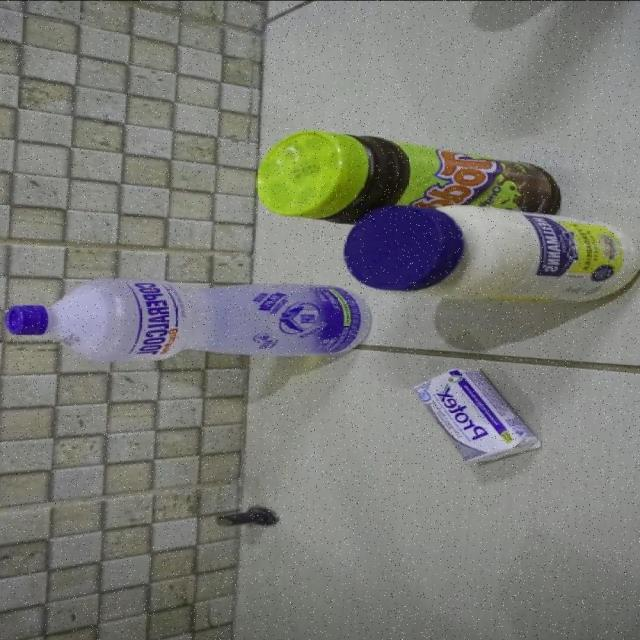AlcoholBottle: (3, 278, 364, 362)
ChocolatePowder: (259, 128, 558, 222)
Mayonnaise: (343, 206, 640, 299)
Soap: (410, 368, 539, 462)
